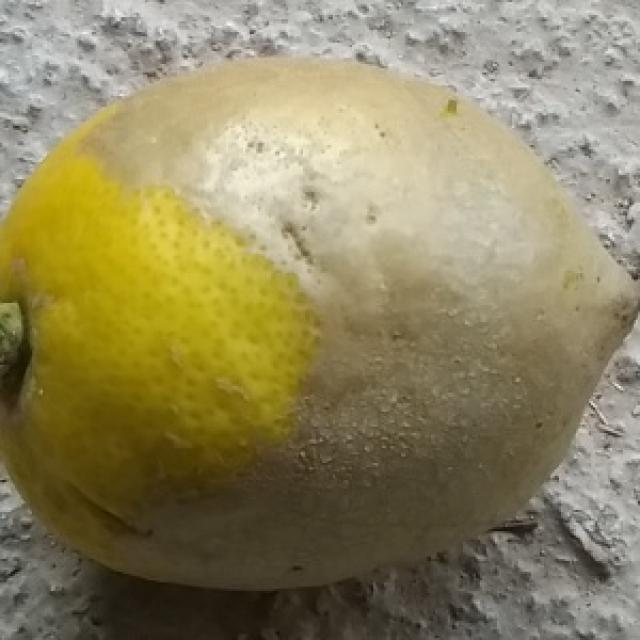overripe: (5, 45, 640, 604)
